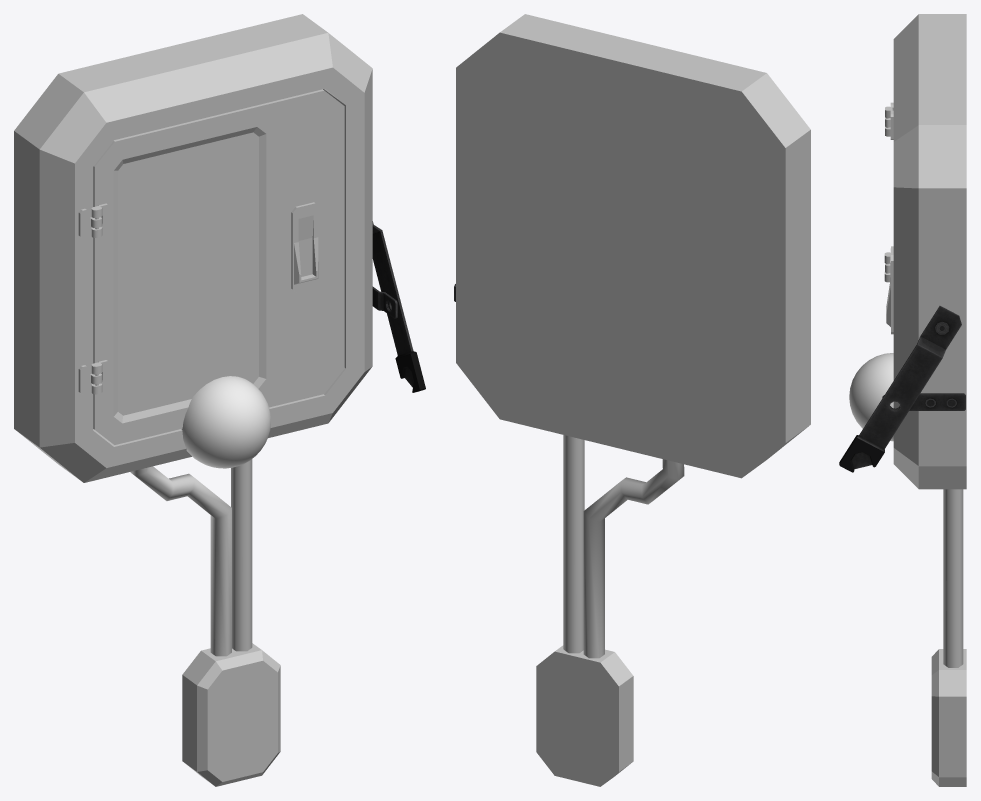
The picture shows the model from 3 angles, left to right: view 1: azimuth 30°, elevation 25°; view 2: azimuth 150°, elevation 25°; view 3: azimuth 270°, elevation 25°; orthographic projection. The views are drawn at different scales.
Visible parts, largest first — view 1: Door, Electrical Box LOD, Conduit, frame, Handle LOD, Latch; view 2: Electrical Box LOD, Conduit; view 3: Electrical Box LOD, Conduit, Handle LOD, frame, Lock LOD, Latch.
Boxes of the visible parts, box(x1,y1,x2,y2) form: Door: box(93, 89, 344, 444); Electrical Box LOD: box(14, 14, 372, 482); Conduit: box(130, 459, 280, 786); frame: box(181, 376, 270, 468); Handle LOD: box(372, 221, 425, 392); Latch: box(291, 202, 319, 292); Electrical Box LOD: box(456, 14, 810, 478); Conduit: box(536, 435, 684, 786); Electrical Box LOD: box(893, 14, 966, 489); Conduit: box(931, 489, 966, 786); Handle LOD: box(839, 306, 961, 472); frame: box(849, 353, 893, 441); Lock LOD: box(882, 393, 965, 410); Latch: box(886, 246, 893, 334).
Size of the model in its own units: 18.39 by 37.7 by 6.32.
